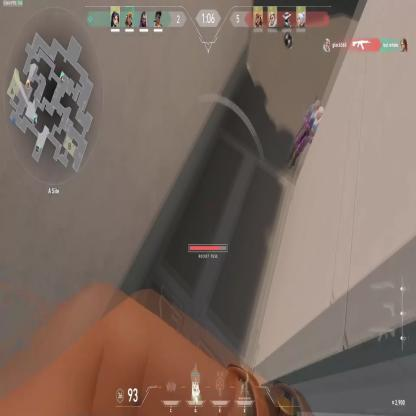enemy: (287, 98, 326, 174)
enemy_head: (315, 105, 323, 120)
